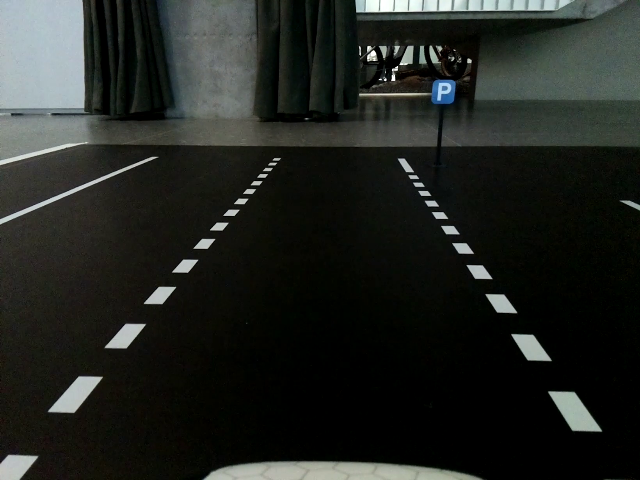park: (433, 82, 456, 105)
